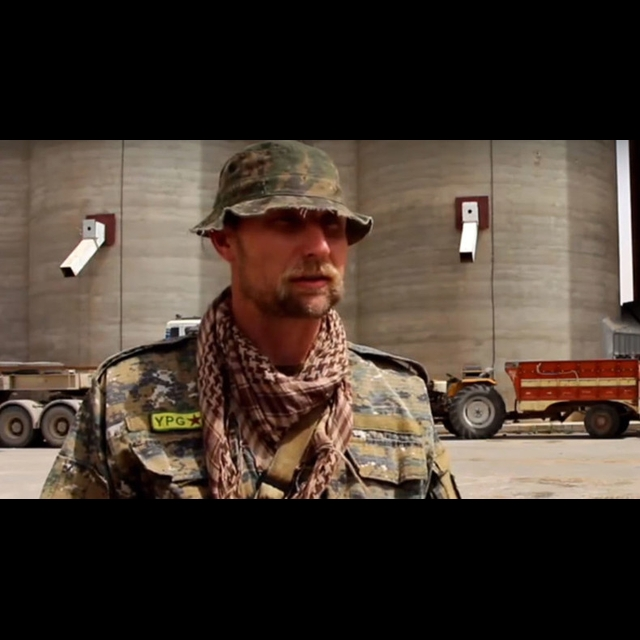YPG: (150, 410, 205, 431)
